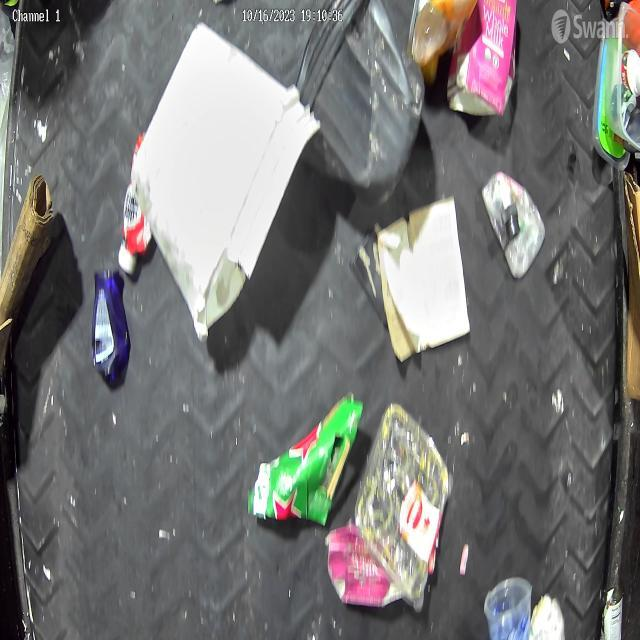can: (603, 582, 627, 640)
milk_jug: (130, 22, 322, 344)
non_white_jug: (447, 0, 520, 121)
plastic_bottle: (482, 170, 548, 282)
